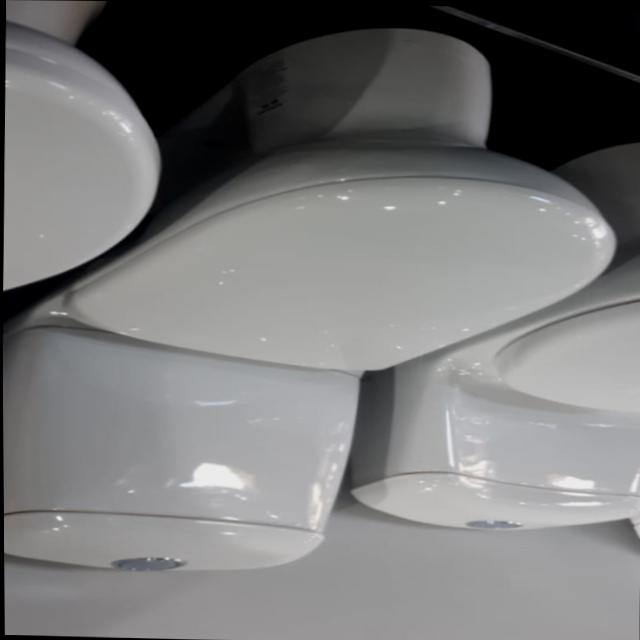toilet: (0, 17, 624, 584), (346, 133, 640, 534), (1, 0, 166, 295)
